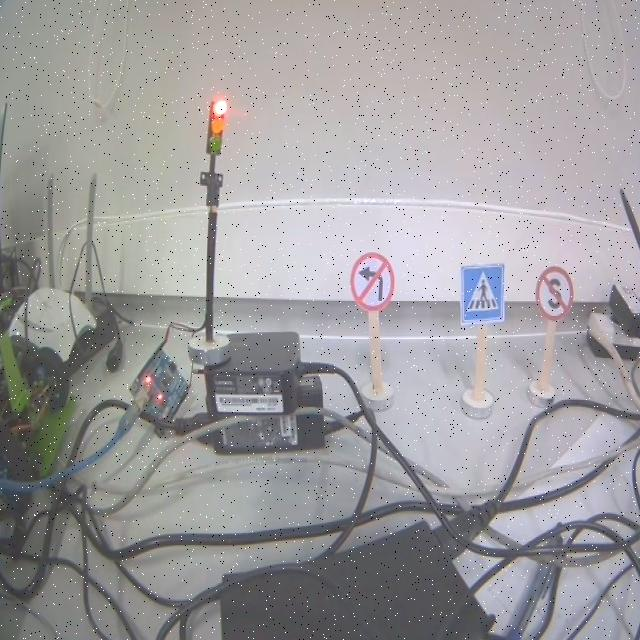Dilarang Belok Kiri: (350, 252, 394, 312)
Lampu Merah: (206, 99, 226, 152)
Rambu Berhenti: (536, 267, 574, 319)
Rambu Penyebrangan: (460, 263, 506, 324)
